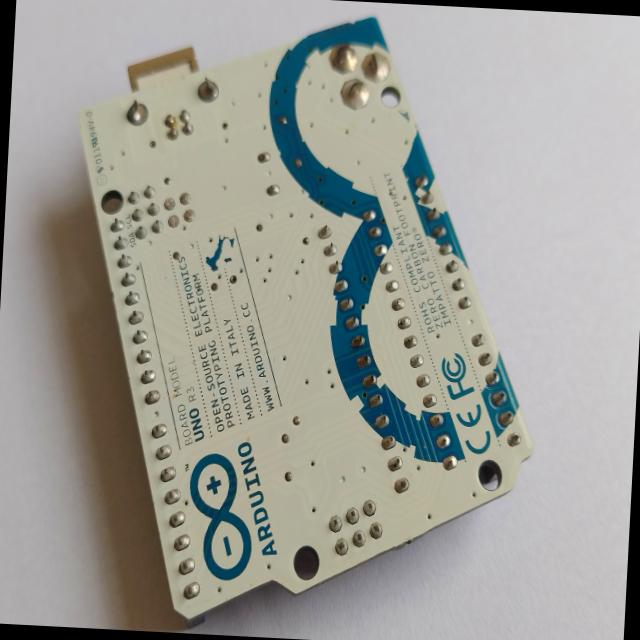arduino: (44, 0, 564, 640)
